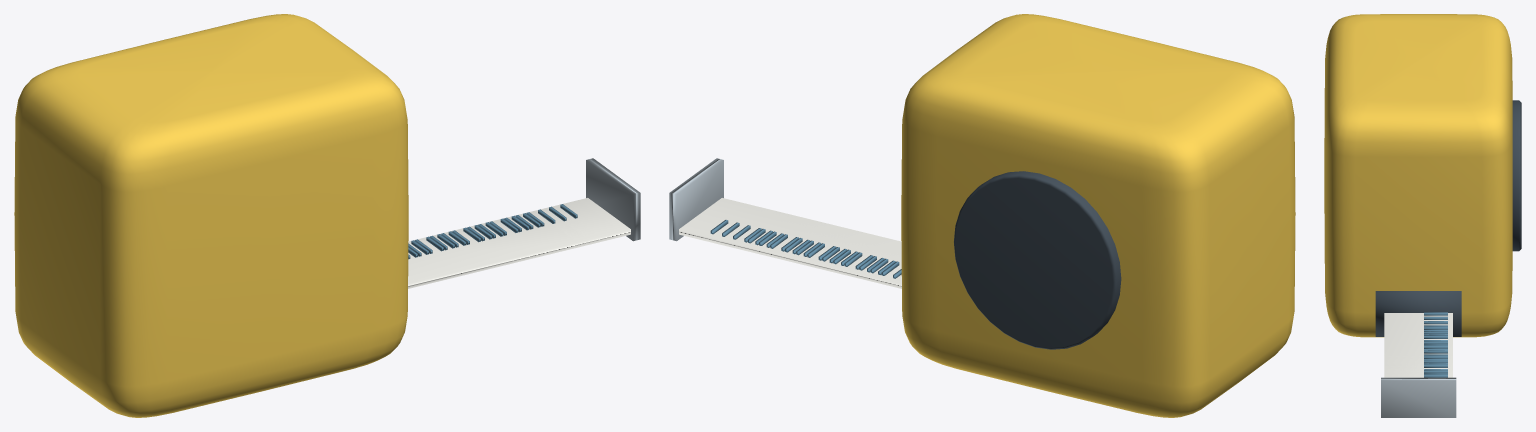
The model's file is tape_measure.glb.
3 renders of one model, left to right at view 1: azimuth 30°, elevation 25°; view 2: azimuth 150°, elevation 25°; view 3: azimuth 270°, elevation 25°, orthographic. The views are drawn at different scales.
Visible parts, largest first — view 1: Tape_Case, Tape_Strip_0, Tape_Strip_4, End_Hook, Tape_Strip_1, Tape_Strip_3, Tape_Strip_5; view 2: Tape_Case, Spool_Cover, Tape_Strip_4, Tape_Strip_0, End_Hook, Tape_Strip_3, Tape_Strip_1; view 3: Tape_Case, End_Hook, Tape_Strip_2, Tape_Channel, Spool_Cover, Tape_Strip_0.
Part boxes in pixels (x1,y1,x2,y2): Tape_Case: [14, 14, 408, 417]; Tape_Strip_0: [408, 211, 576, 288]; Tape_Strip_4: [408, 200, 621, 281]; End_Hook: [586, 158, 640, 241]; Tape_Strip_1: [408, 208, 588, 286]; Tape_Strip_3: [408, 203, 610, 288]; Tape_Strip_5: [429, 198, 630, 279]; Tape_Case: [901, 14, 1295, 417]; Spool_Cover: [954, 171, 1121, 349]; Tape_Strip_4: [688, 200, 901, 281]; Tape_Strip_0: [733, 211, 901, 288]; End_Hook: [669, 158, 723, 241]; Tape_Strip_3: [699, 203, 897, 284]; Tape_Strip_1: [721, 209, 901, 283]; Tape_Case: [1324, 14, 1512, 337]; End_Hook: [1381, 377, 1456, 417]; Tape_Strip_2: [1384, 314, 1452, 377]; Tape_Channel: [1375, 291, 1461, 336]; Spool_Cover: [1512, 100, 1521, 251]; Tape_Strip_0: [1384, 352, 1452, 377].
Bounding box in the file's own units: 0.15 × 0.074 × 0.0575.
